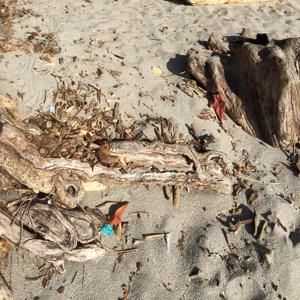plastic: (42, 100, 74, 126), (207, 92, 230, 125), (97, 223, 122, 243)
